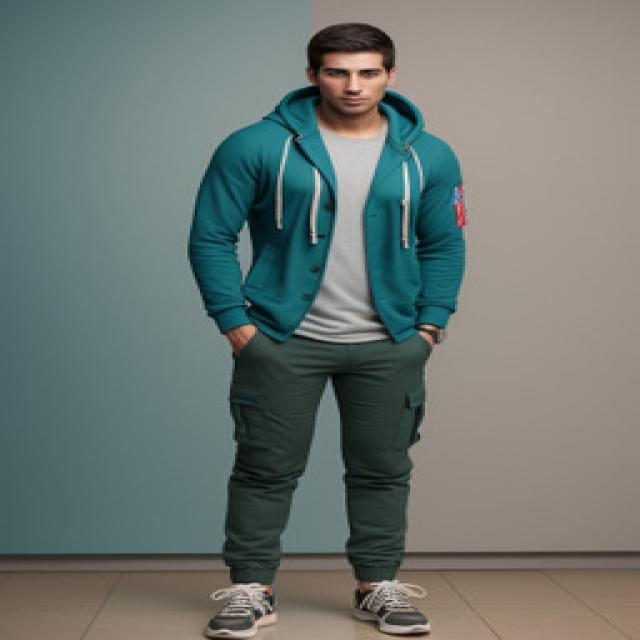Ai human 2: (168, 14, 500, 640)
